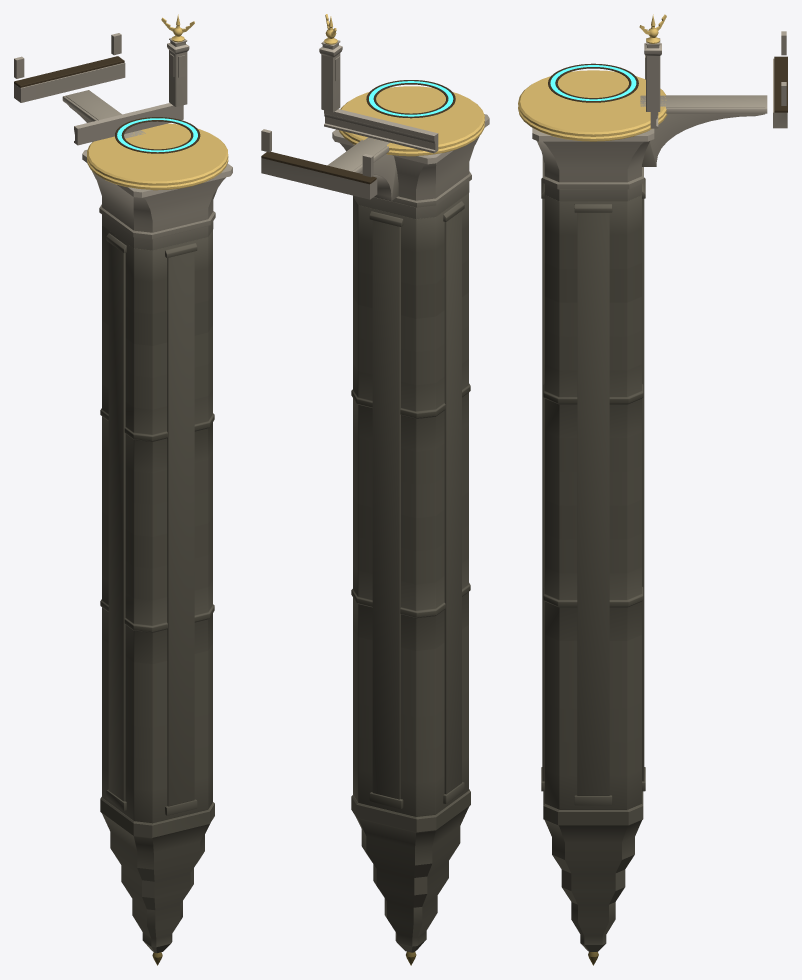
The model's file is tower.glb.
3 renders of one model, left to right at view 1: azimuth 30°, elevation 25°; view 2: azimuth 150°, elevation 25°; view 3: azimuth 270°, elevation 25°, orthographic. The views are drawn at different scales.
Visible parts, largest first — view 1: tower_shaft_run, tower_shaft_detail, tower_sill, tower_edge, tower_crown, tower_bracket, tower_ring; view 2: tower_shaft_run, tower_shaft_detail, tower_sill, tower_edge, tower_bracket, tower_crown, tower_ring; view 3: tower_shaft_run, tower_shaft_detail, tower_bracket, tower_crown, tower_ring, tower_sill.
Boxes of the visible parts, x1,y1,x2,y2 form: tower_shaft_run: (100,225,214,823); tower_shaft_detail: (82,123,232,965); tower_sill: (14,33,125,102); tower_edge: (74,103,183,145); tower_crown: (161,14,194,106); tower_bracket: (62,90,145,138); tower_ring: (115,117,200,153); tower_shaft_run: (351,193,470,816); tower_shaft_detail: (332,86,489,965); tower_sill: (261,129,377,199); tower_edge: (324,109,438,153); tower_bracket: (327,137,398,200); tower_crown: (319,14,342,112); tower_ring: (366,80,455,118); tower_shaft_run: (541,177,645,809); tower_shaft_detail: (518,70,667,965); tower_bracket: (640,95,767,166); tower_crown: (639,14,666,111); tower_ring: (548,63,638,102); tower_sill: (773,31,787,128).
Bounding box in the file's own units: 4.64 × 33.22 × 8.31.
